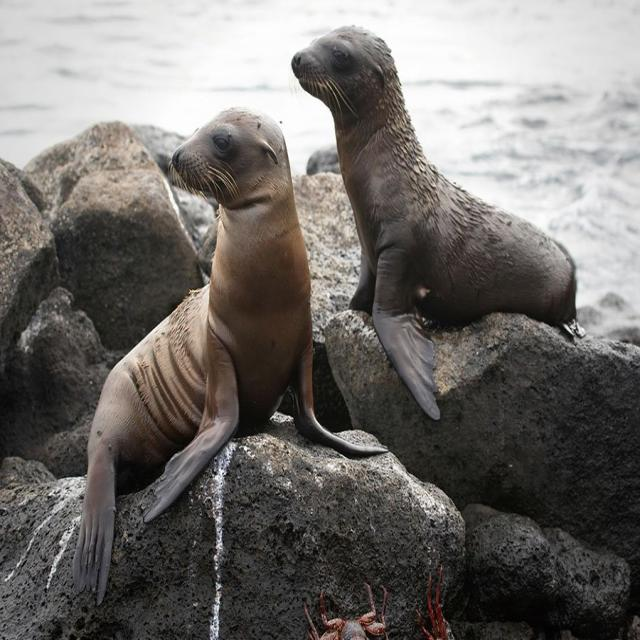seal: (73, 108, 383, 600), (291, 27, 575, 419)
